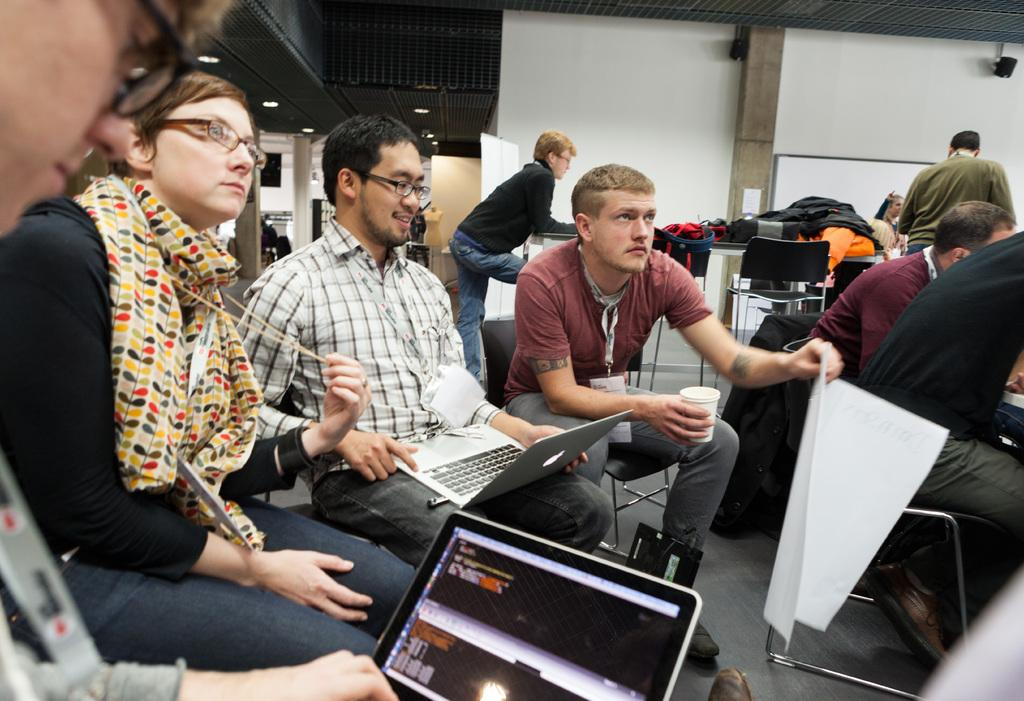Laptop: (374, 513, 700, 700), (388, 411, 635, 510)
